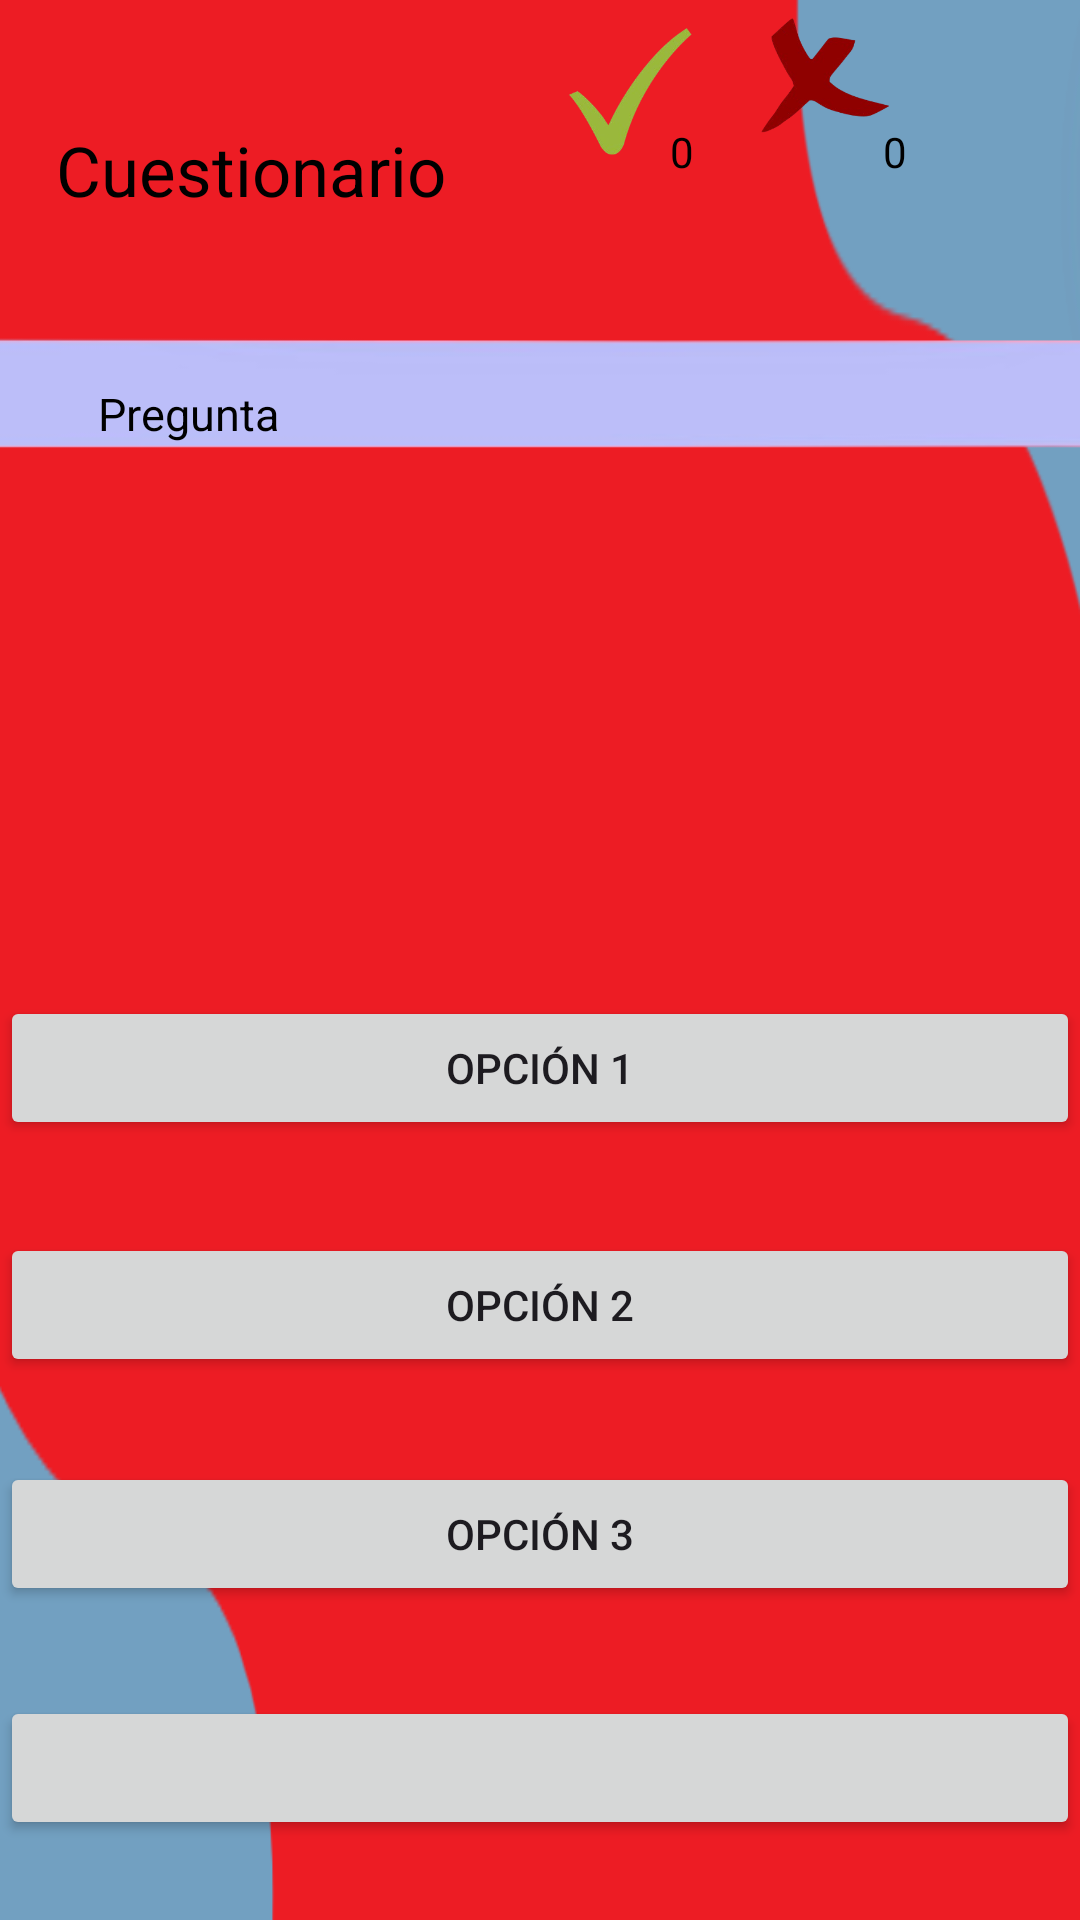

Point at icon controls on the screen. Image size 1080w x 1920h, points as (x=x, y=y).
correcto removeg: (x=630, y=98)
incorrecto: (x=820, y=82)
